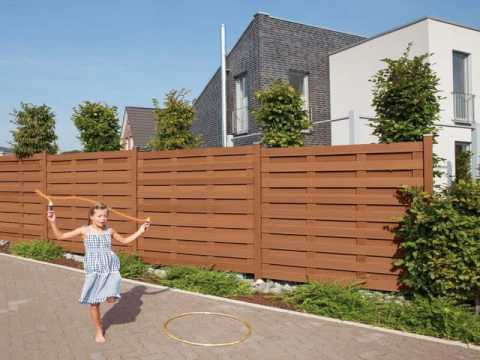Arbol: (392, 185, 480, 299), (370, 55, 442, 137), (250, 80, 324, 150), (145, 89, 204, 157), (69, 97, 125, 150), (11, 102, 60, 149)
Persona: (55, 199, 141, 339)
Valla: (1, 151, 425, 281)
